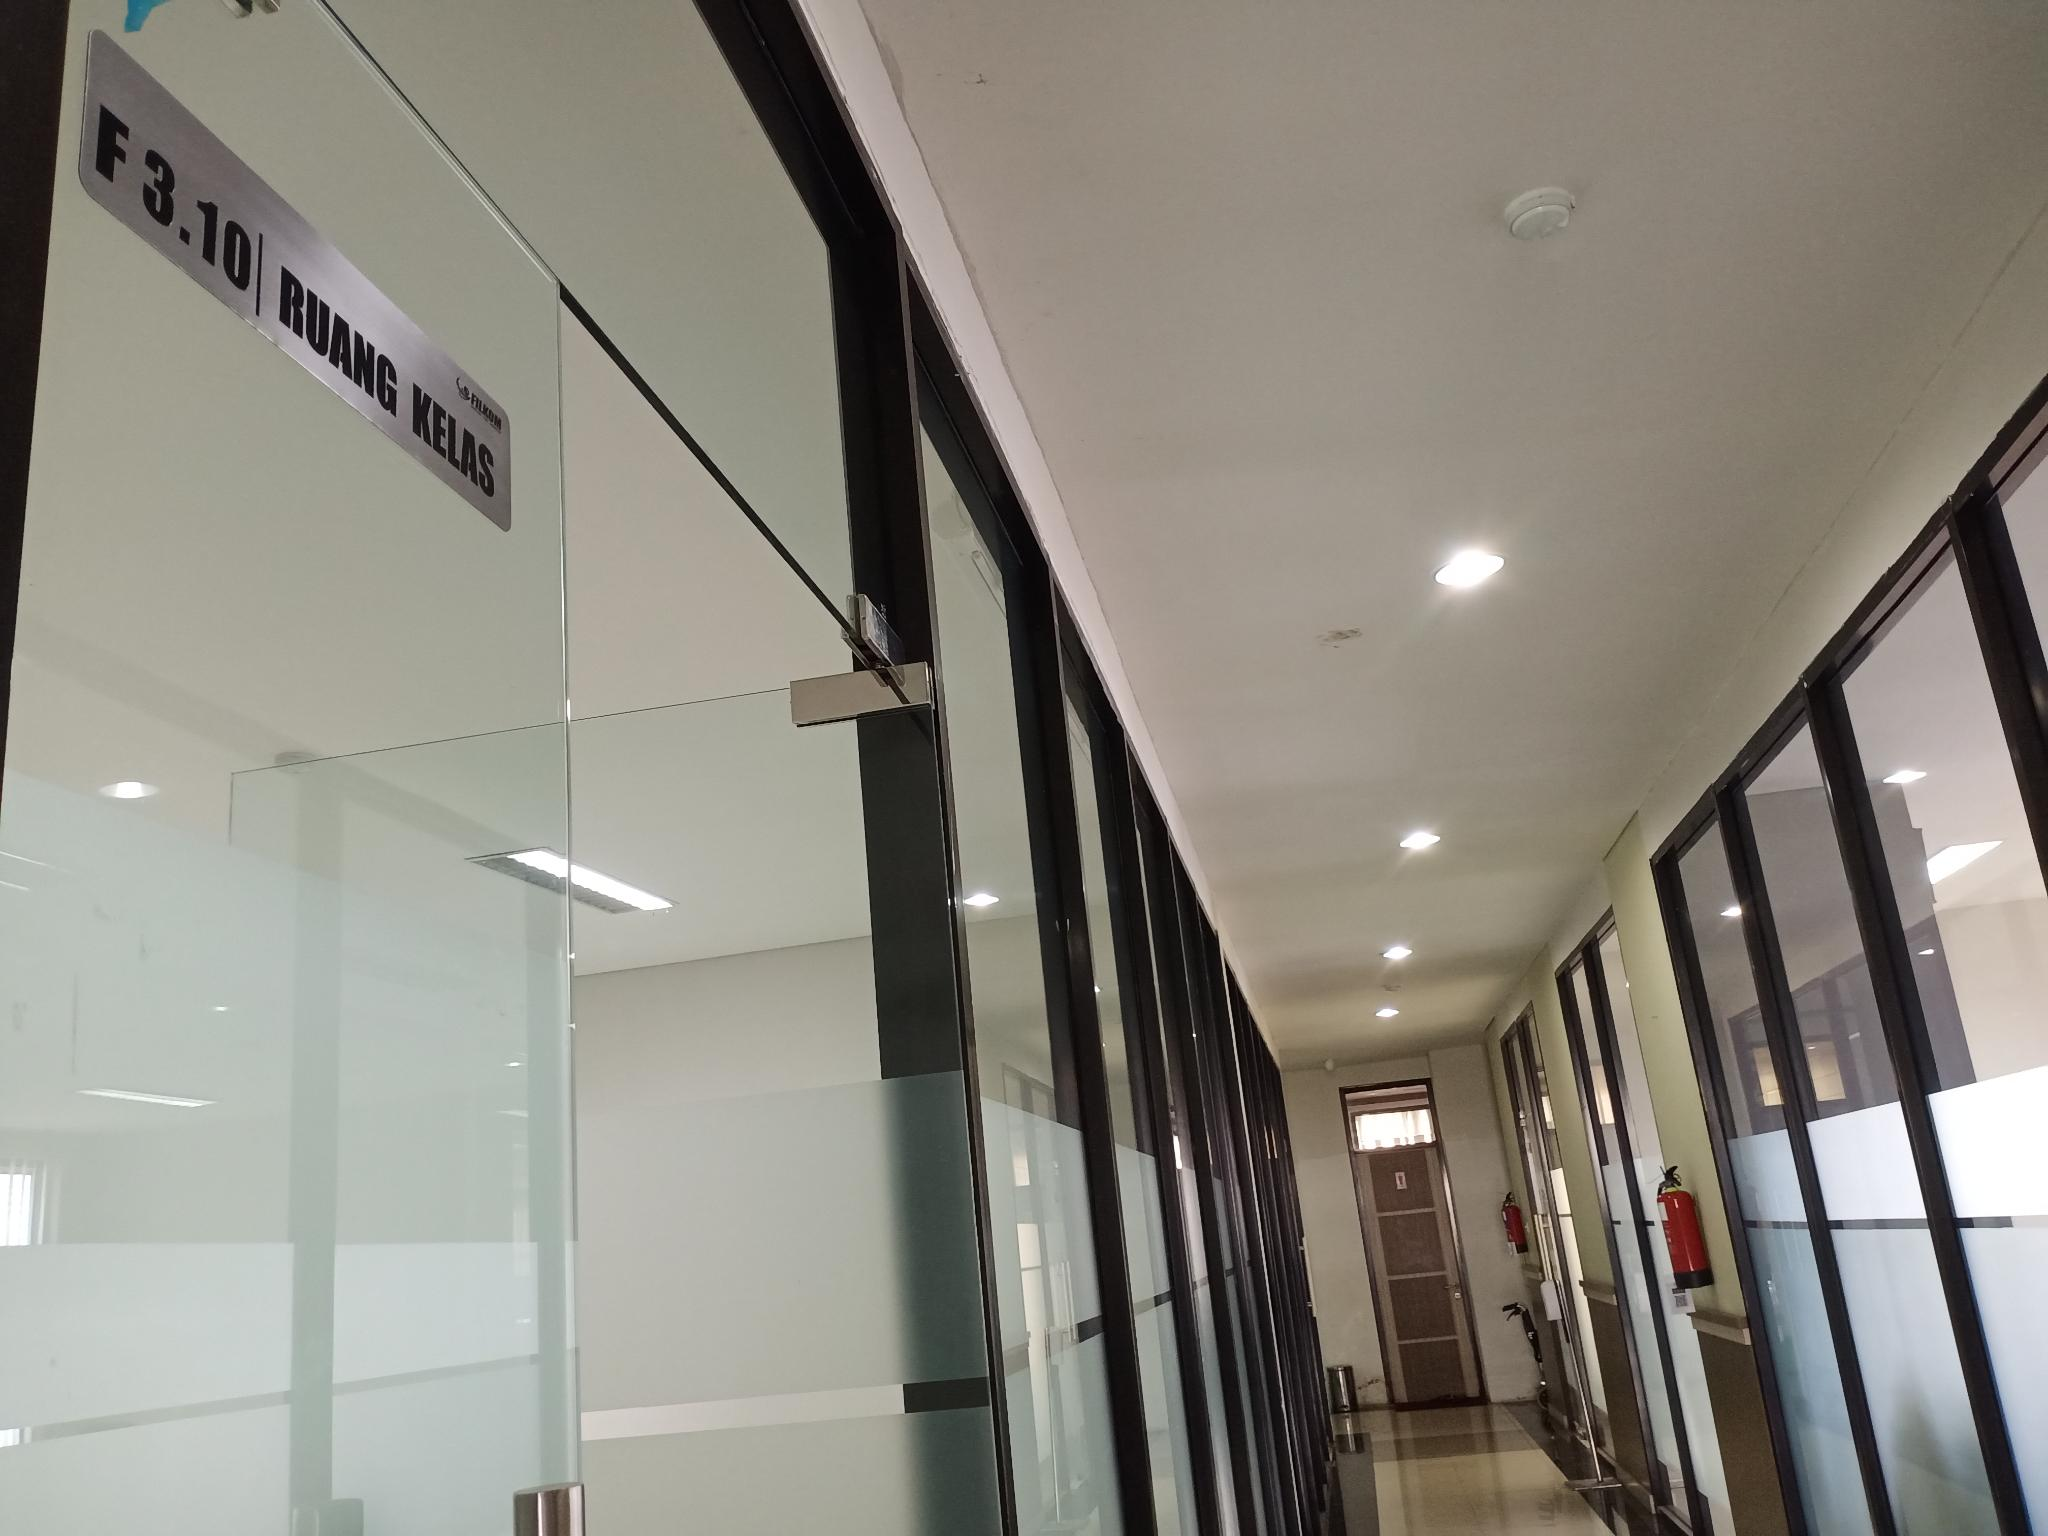plate: (74, 21, 511, 537)
